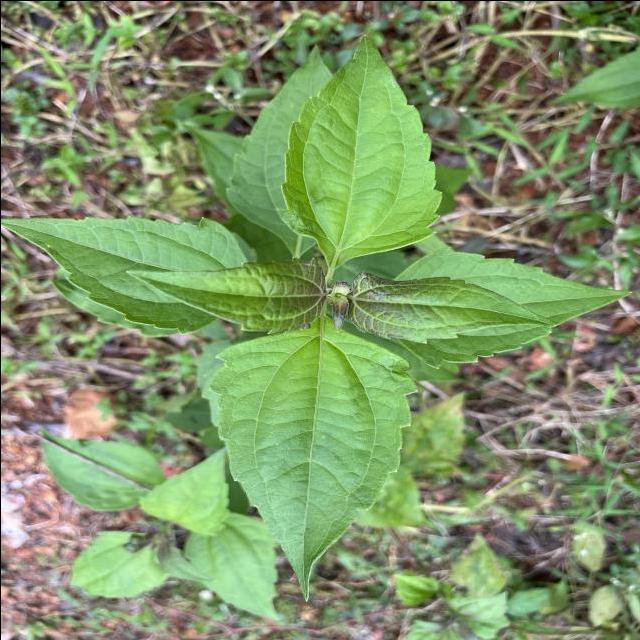Chromolaena odorata: (203, 313, 422, 604), (276, 29, 444, 267), (346, 266, 560, 346)
